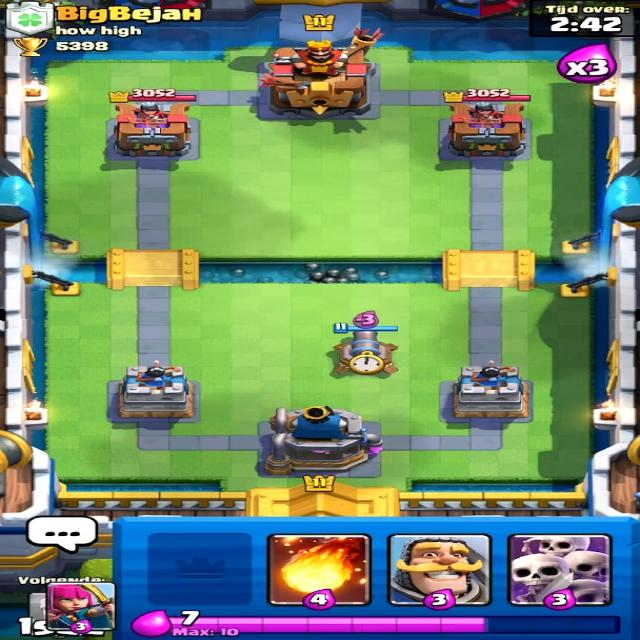Cannon_Troop: (330, 329, 403, 378)
Fireball_Card: (262, 535, 367, 607)
